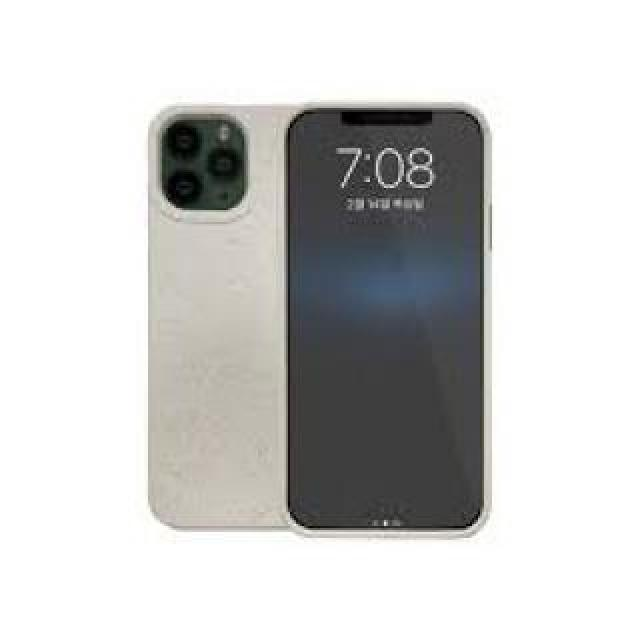smart phone: (277, 92, 530, 550), (130, 20, 273, 565)
